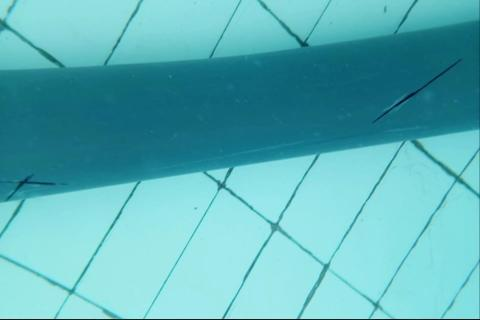keretakan: (371, 56, 463, 126), (0, 171, 61, 203)
